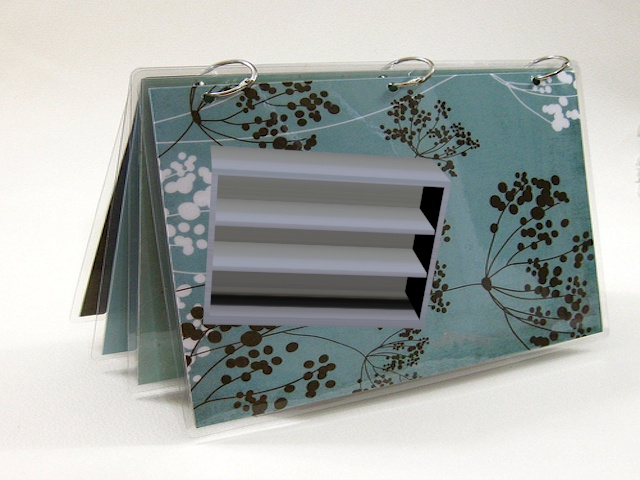bookcase: (193, 145, 464, 336)
